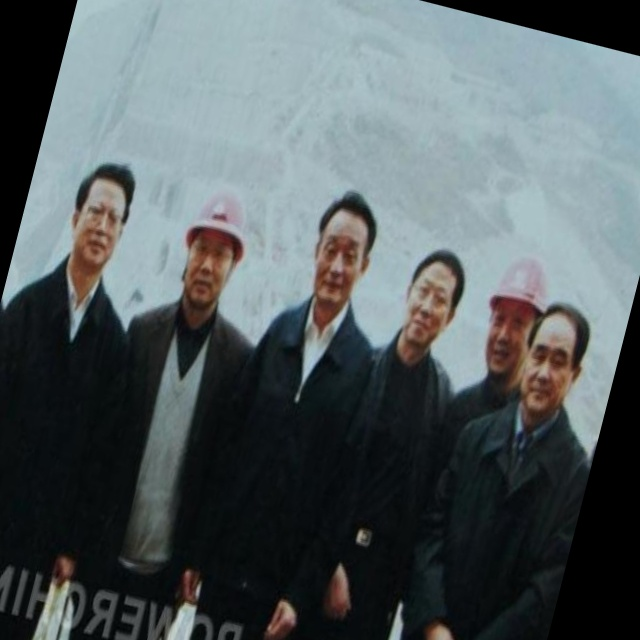Con_Casco: (172, 178, 261, 303)
Sin_Casco_Mascarrilla: (60, 151, 143, 276), (302, 183, 385, 305), (393, 239, 472, 360)
Sin_Chaleco: (73, 289, 258, 580), (206, 289, 382, 578)
